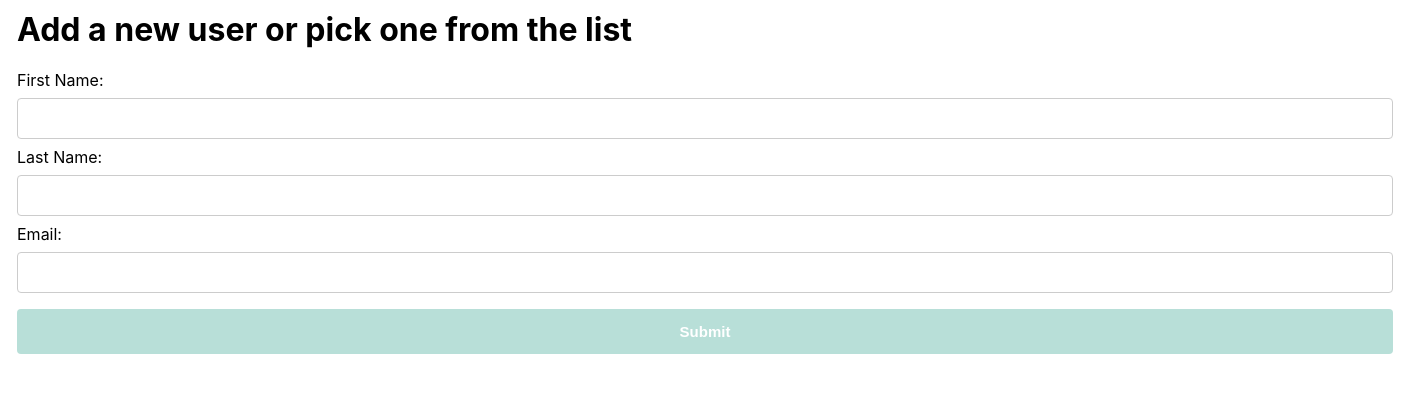
Test: Inputs fields › given invalid data › Email input › should show error when name is longer than 15 chars
In the field labelled "Email:": [705, 273] box [17,252,1393,293], type "email"
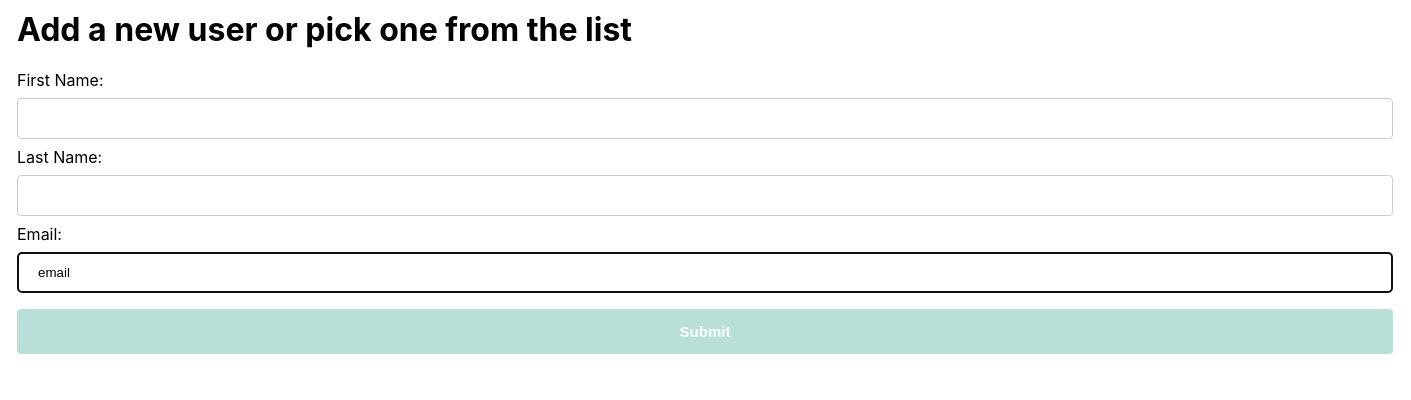
Press Tab
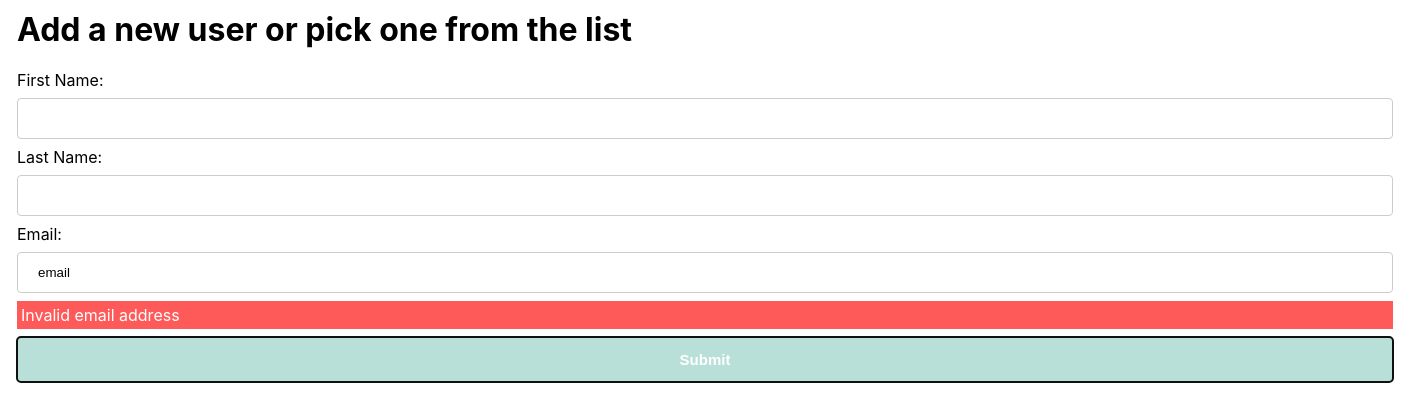
Result: the text "Invalid email address" is shown once at [17,301,1393,329]
